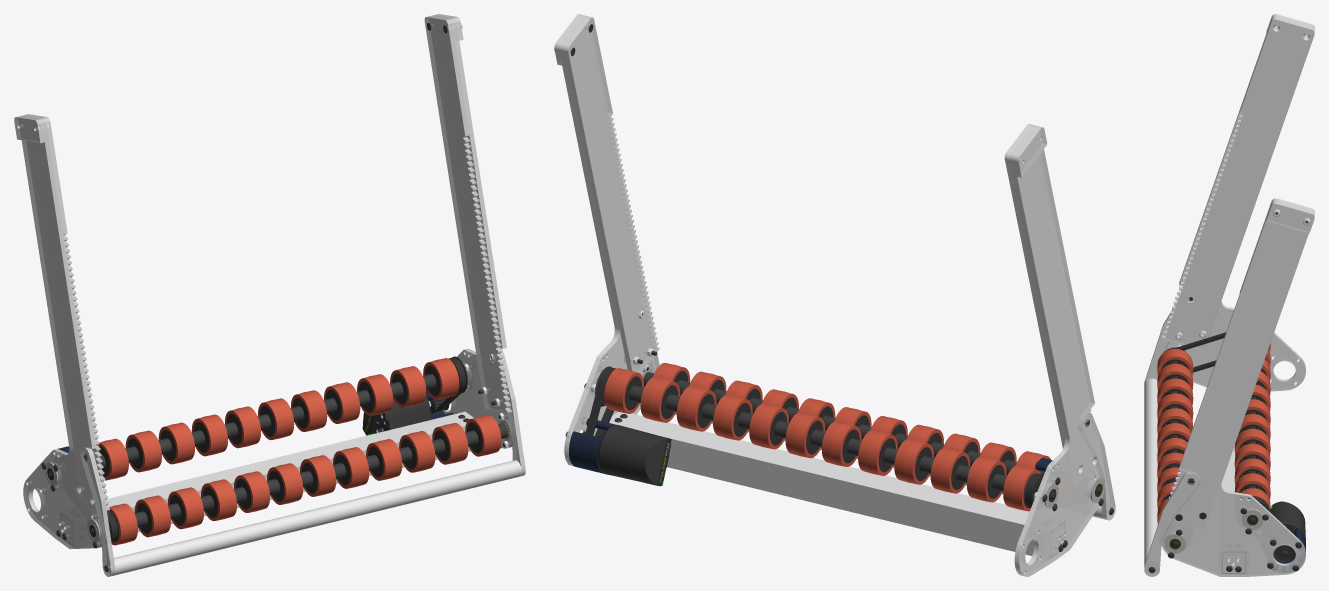
The picture shows the model from 3 angles, left to right: view 1: azimuth 30°, elevation 25°; view 2: azimuth 150°, elevation 25°; view 3: azimuth 270°, elevation 25°; orthographic projection. The views are drawn at different scales.
Parts seen in each view (by area): view 1: 2" Stealth Wheel (40A, 1/2" Hex Bore) (×23), W26-LIN-P003-Mirrored, W26-LIN-P004, 0.75" ID x 0.875" OD Aluminum Round Tube (23.875" L), W26-LIN-P003, W26-LIN-T001, W26-LIN-P012 (×2), W26-LIN-P004-Mirrored, Kraken X60 Brushless Motor <1>, W26-LIN-P009; view 2: W26-LIN-T001, W26-LIN-P003-Mirrored, 2" Stealth Wheel (40A, 1/2" Hex Bore) (×12), W26-LIN-P004, W26-LIN-P003, W26-LIN-P004-Mirrored, Kraken X60 Brushless Motor <1>, W26-LIN-P012, W26-LIN-3DP003, W26-LIN-P009, 50T 5M 9mm Wide Belt; view 3: W26-LIN-P003, W26-LIN-P004-Mirrored, W26-LIN-P003-Mirrored, 2" Stealth Wheel (40A, 1/2" Hex Bore) (×18), 0.75" ID x 0.875" OD Aluminum Round Tube (23.875" L), W26-LIN-P012 (×2), W26-LIN-P009, Kraken X60 Brushless Motor <1>, 1/2" Rounded Hex (13.75mm) ID Bearing (1.125" OD, 0.313" WD, (×2), W26-LIN-P004, 70T 5M 9mm Wide Belt, W26-LIN-T001 (+2 smaller).
Part boxes in pixels (<box>): 2" Stealth Wheel (40A, 1/2" Hex Bore) (×23): <box>98,358,501,545</box>; W26-LIN-P003-Mirrored: <box>20,115,101,549</box>; W26-LIN-P004: <box>424,16,511,412</box>; 0.75" ID x 0.875" OD Aluminum Round Tube (23.875" L): <box>107,460,521,575</box>; W26-LIN-P003: <box>429,15,512,448</box>; W26-LIN-T001: <box>63,411,473,543</box>; W26-LIN-P012 (×2): <box>80,348,525,576</box>; W26-LIN-P004-Mirrored: <box>24,114,109,510</box>; Kraken X60 Brushless Motor <1>: <box>362,395,431,435</box>; W26-LIN-P009: <box>14,116,44,142</box>; W26-LIN-T001: <box>609,412,1063,558</box>; W26-LIN-P003-Mirrored: <box>1009,125,1105,576</box>; 2" Stealth Wheel (40A, 1/2" Hex Bore) (×12): <box>604,368,1040,511</box>; W26-LIN-P004: <box>563,16,659,373</box>; W26-LIN-P003: <box>559,15,654,466</box>; W26-LIN-P004-Mirrored: <box>1004,124,1099,473</box>; Kraken X60 Brushless Motor <1>: <box>597,424,671,486</box>; W26-LIN-P012: <box>1082,412,1115,520</box>; W26-LIN-3DP003: <box>569,431,603,473</box>; W26-LIN-P009: <box>1014,126,1047,177</box>; 50T 5M 9mm Wide Belt: <box>585,367,615,436</box>; W26-LIN-P003: <box>1161,200,1314,576</box>; W26-LIN-P004-Mirrored: <box>1161,18,1314,349</box>; W26-LIN-P003-Mirrored: <box>1164,16,1314,391</box>; 2" Stealth Wheel (40A, 1/2" Hex Bore) (×18): <box>1157,349,1270,509</box>; 0.75" ID x 0.875" OD Aluminum Round Tube (23.875" L): <box>1144,378,1157,574</box>; W26-LIN-P012 (×2): <box>1144,305,1200,576</box>; W26-LIN-P009: <box>1266,202,1314,233</box>; Kraken X60 Brushless Motor <1>: <box>1270,501,1305,551</box>; 1/2" Rounded Hex (13.75mm) ID Bearing (1.125" OD, 0.313" WD, (×2): <box>1164,509,1263,553</box>; W26-LIN-P004: <box>1163,198,1314,525</box>; 70T 5M 9mm Wide Belt: <box>1171,332,1225,372</box>; W26-LIN-T001: <box>1221,445,1246,574</box>.
Bounding box in the file's own units: 0.6362 × 0.5843 × 0.2399.
